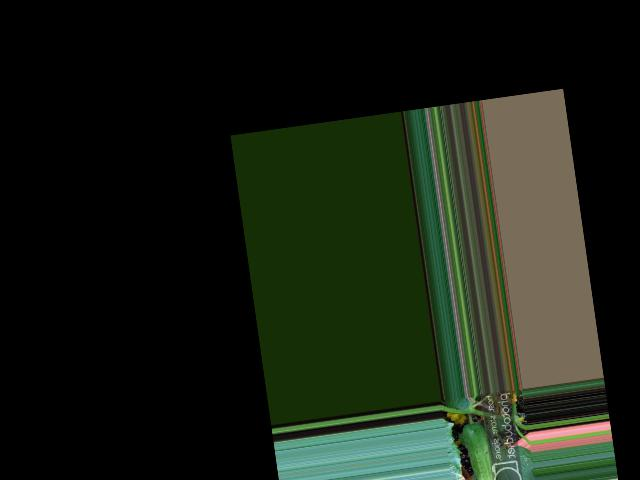cucumber: (461, 421, 498, 480)
